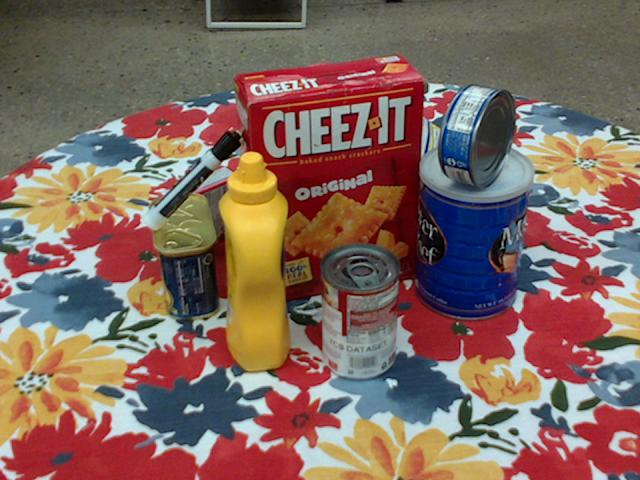cracker_box: (235, 55, 426, 303)
gelatin_box: (158, 166, 242, 261)
large_marker: (142, 130, 242, 229)
master_chef_can: (417, 142, 532, 322)
mug: (301, 122, 385, 220)
mustard_bottle: (219, 152, 289, 372)
potted_meat_can: (149, 193, 219, 321)
sugar_box: (356, 92, 510, 241)
tomato_soup_can: (319, 243, 399, 381)
tuna_fish_can: (440, 85, 515, 187)
